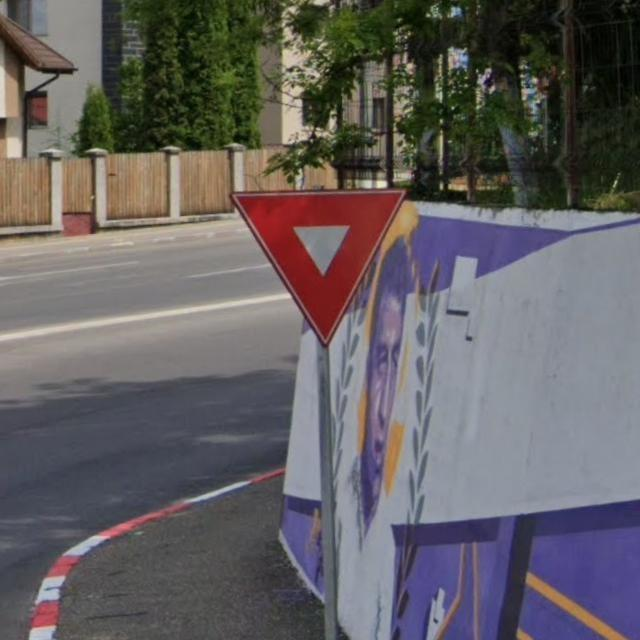prio_give_way: (231, 186, 406, 349)
